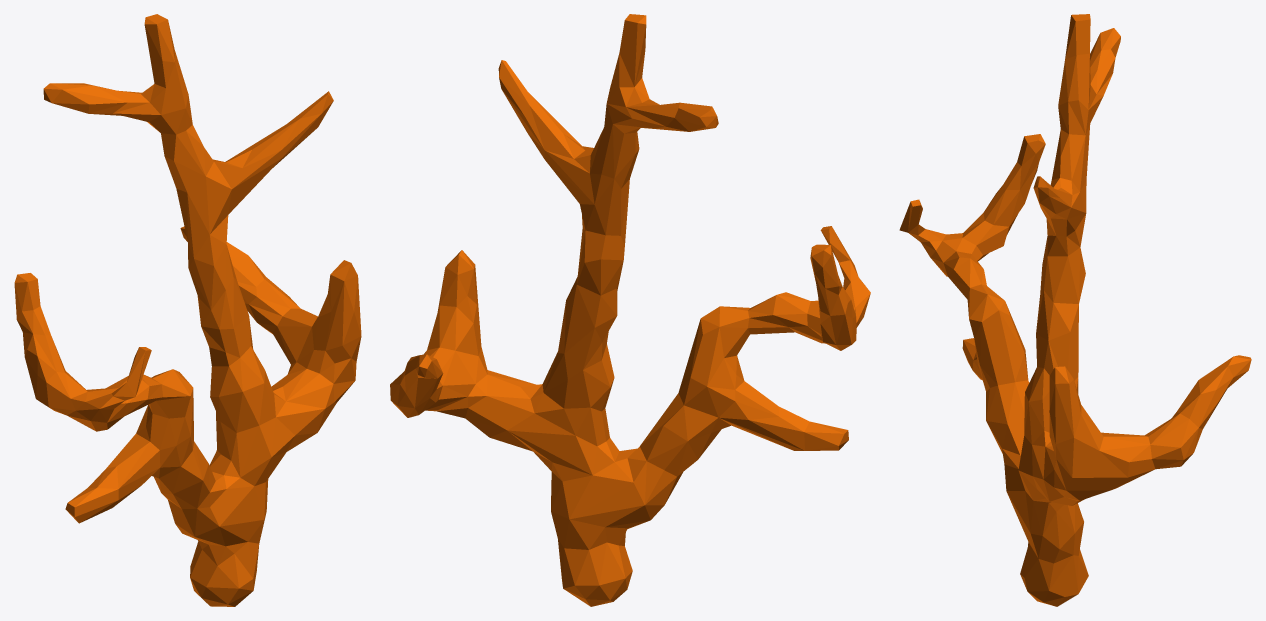
The model's file is Coral2.fbx.
3 renders of one model, left to right at view 1: azimuth 30°, elevation 25°; view 2: azimuth 150°, elevation 25°; view 3: azimuth 270°, elevation 25°, orthographic. The views are drawn at different scales.
Visible parts, largest first — view 1: Coral.002; view 2: Coral.002; view 3: Coral.002.
Part boxes in pixels (x1,y1,x2,y2): Coral.002: (14,14,361,606); Coral.002: (390,14,870,606); Coral.002: (899,14,1251,606).
Size of the model in its own units: 34.95 by 53.92 by 30.6.
